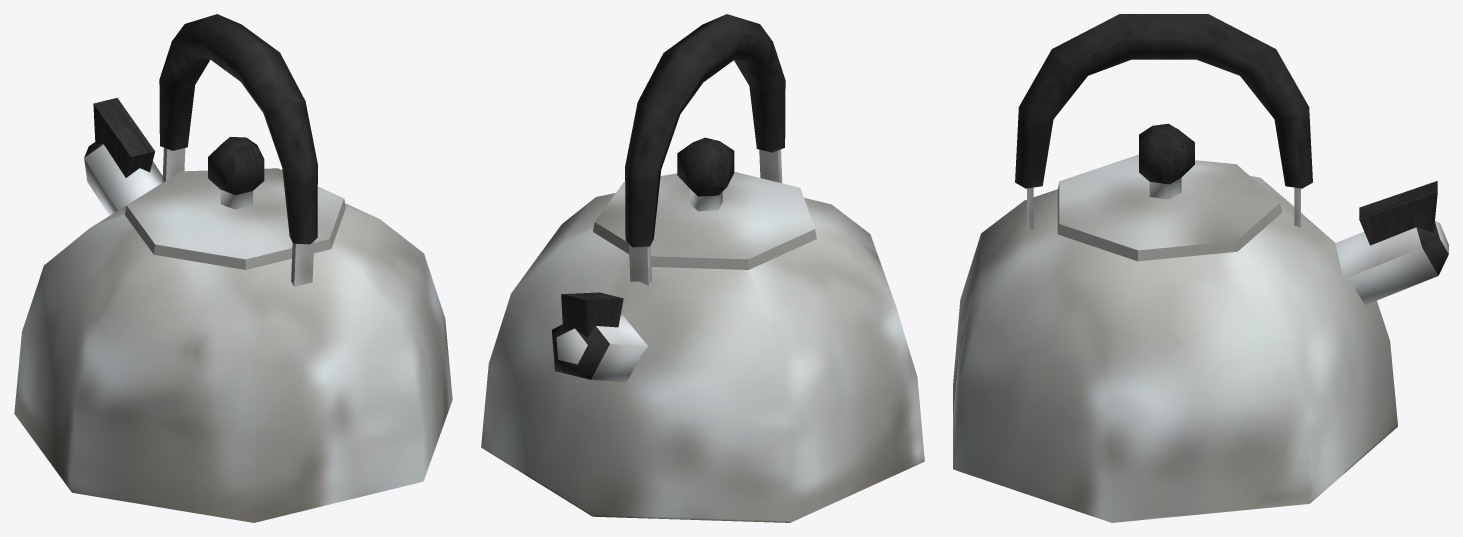
The model's file is kettle.glb.
3 views of the same model, side by side, from view 1: azimuth 30°, elevation 25°; view 2: azimuth 150°, elevation 25°; view 3: azimuth 270°, elevation 25° (orthographic). The views are drawn at different scales.
Visible parts, largest first — view 1: Coffee_maker.001; view 2: Coffee_maker.001; view 3: Coffee_maker.001.
Boxes of the visible parts, <box> form: Coffee_maker.001: <box>14,14,452,522</box>; Coffee_maker.001: <box>481,14,924,522</box>; Coffee_maker.001: <box>953,14,1448,522</box>.
Size of the model in its own units: 0.3278 by 0.3275 by 0.356.
Materials: 1 (1 with a texture image).
